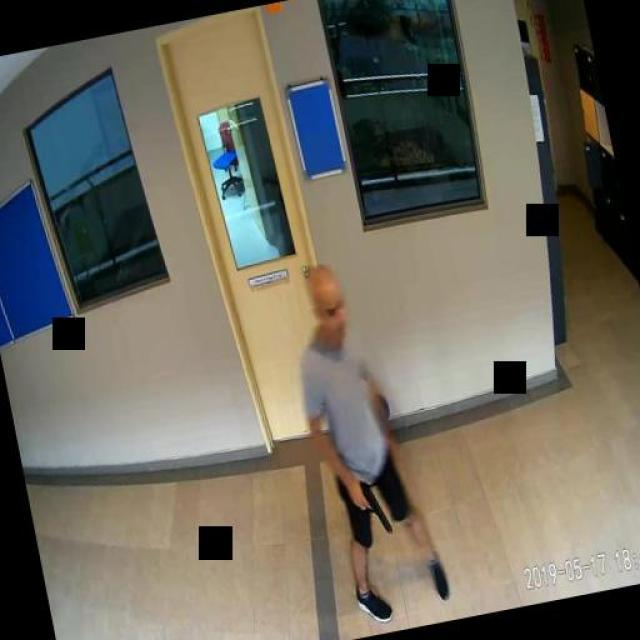gun: (348, 476, 388, 539)
